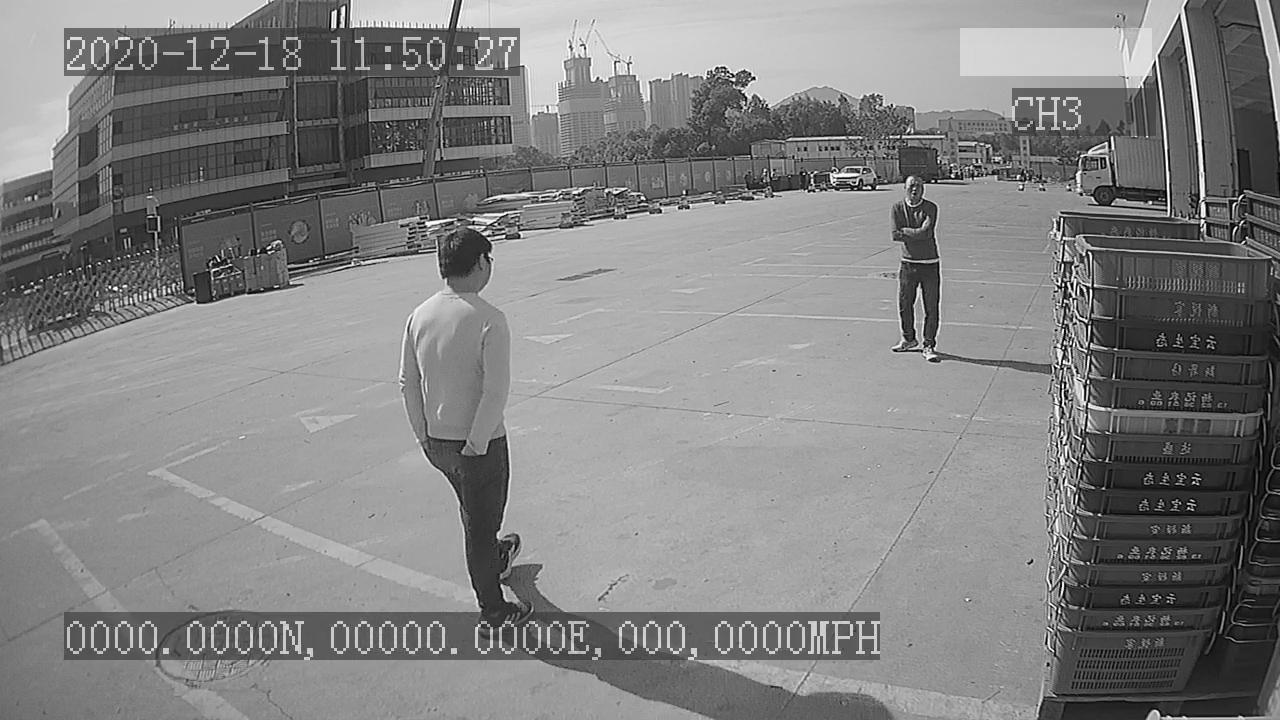person: (886, 172, 947, 365)
